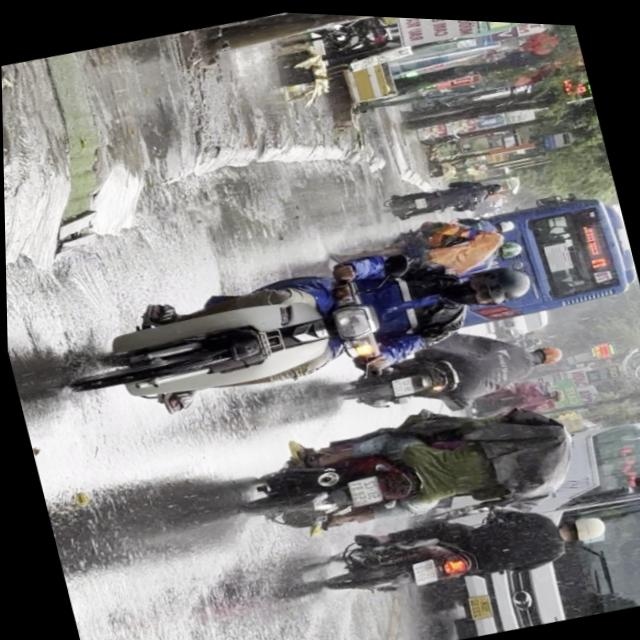helmet: (460, 255, 535, 308), (557, 507, 607, 543), (529, 338, 564, 364), (494, 235, 523, 256)
licenseplate: (80, 199, 554, 439), (224, 372, 587, 562), (303, 472, 615, 619), (330, 307, 572, 430)
nohelmet: (346, 472, 381, 505), (409, 555, 436, 583), (390, 373, 413, 394)
